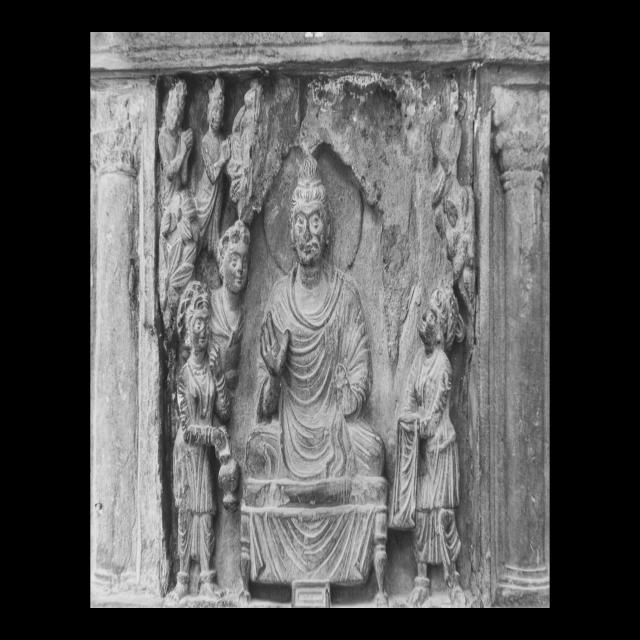buddha-sitting: (241, 156, 388, 602)
